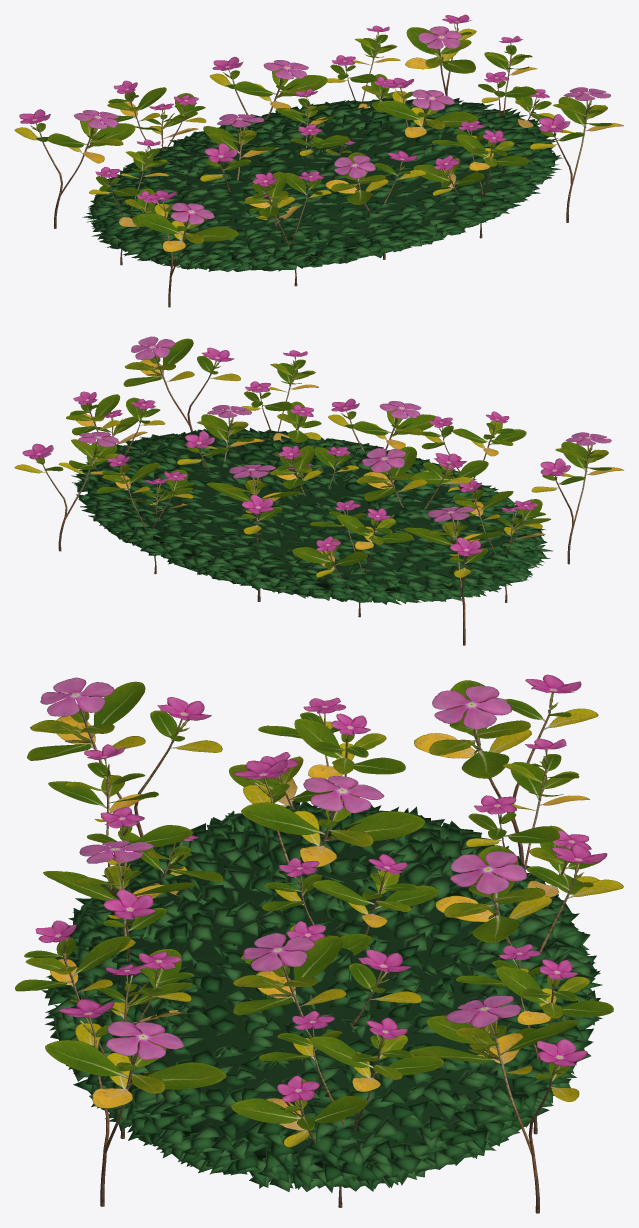
Rendered from Periwinkle_Rect.fbx.
3 renders of one model, top to bottom at view 1: azimuth 30°, elevation 25°; view 2: azimuth 150°, elevation 25°; view 3: azimuth 270°, elevation 25°, orthographic. The views are drawn at different scales.
Parts seen in each view (by area): view 1: Periwinkle_Rect; view 2: Periwinkle_Rect; view 3: Periwinkle_Rect.
Boxes of the visible parts, <box> form: Periwinkle_Rect: <box>14,14,623,307</box>; Periwinkle_Rect: <box>14,336,623,645</box>; Periwinkle_Rect: <box>15,674,623,1213</box>.
Bounding box in the file's own units: 1 × 0.24 × 0.6454.
5 materials, 5 textured.
